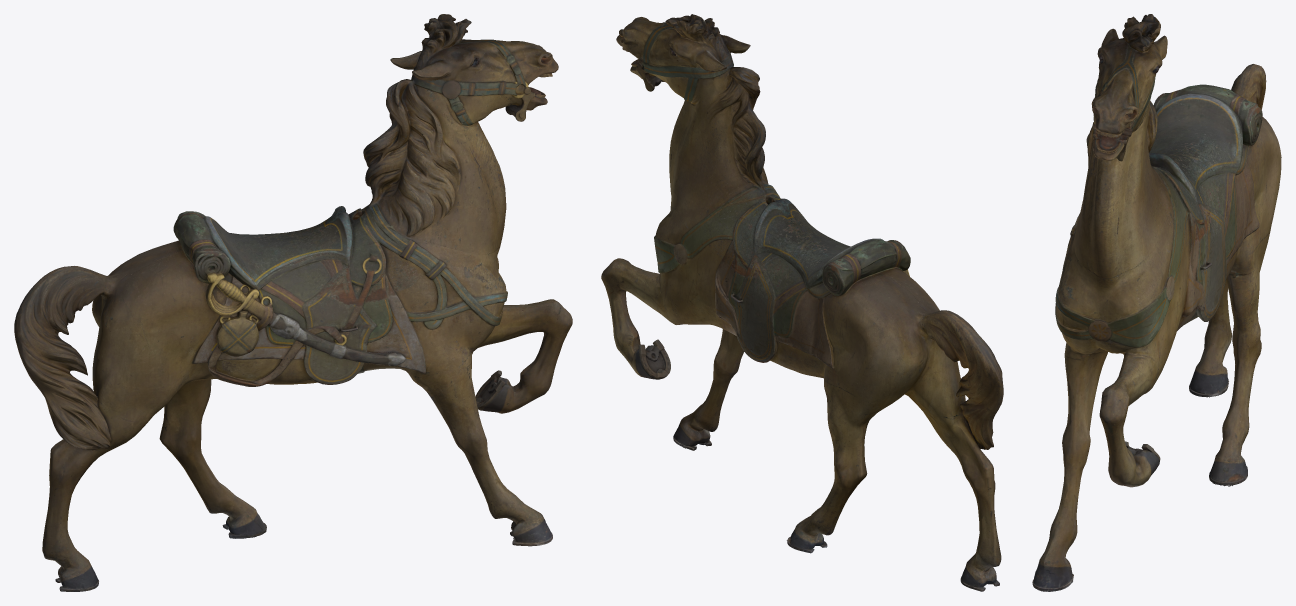
Rendered from outside_row_standing_horse.glb.
3 renders of one model, left to right at view 1: azimuth 30°, elevation 25°; view 2: azimuth 150°, elevation 25°; view 3: azimuth 270°, elevation 25°, orthographic. The views are drawn at different scales.
Visible parts, largest first — view 1: default_n3d; view 2: default_n3d; view 3: default_n3d.
Part boxes in pixels (x1,y1,x2,y2): default_n3d: [14, 14, 572, 591]; default_n3d: [601, 14, 1003, 591]; default_n3d: [1032, 14, 1281, 591].
Size of the model in its own units: 1.63 by 1.61 by 0.6627.
Materials: 1 (1 with a texture image).
